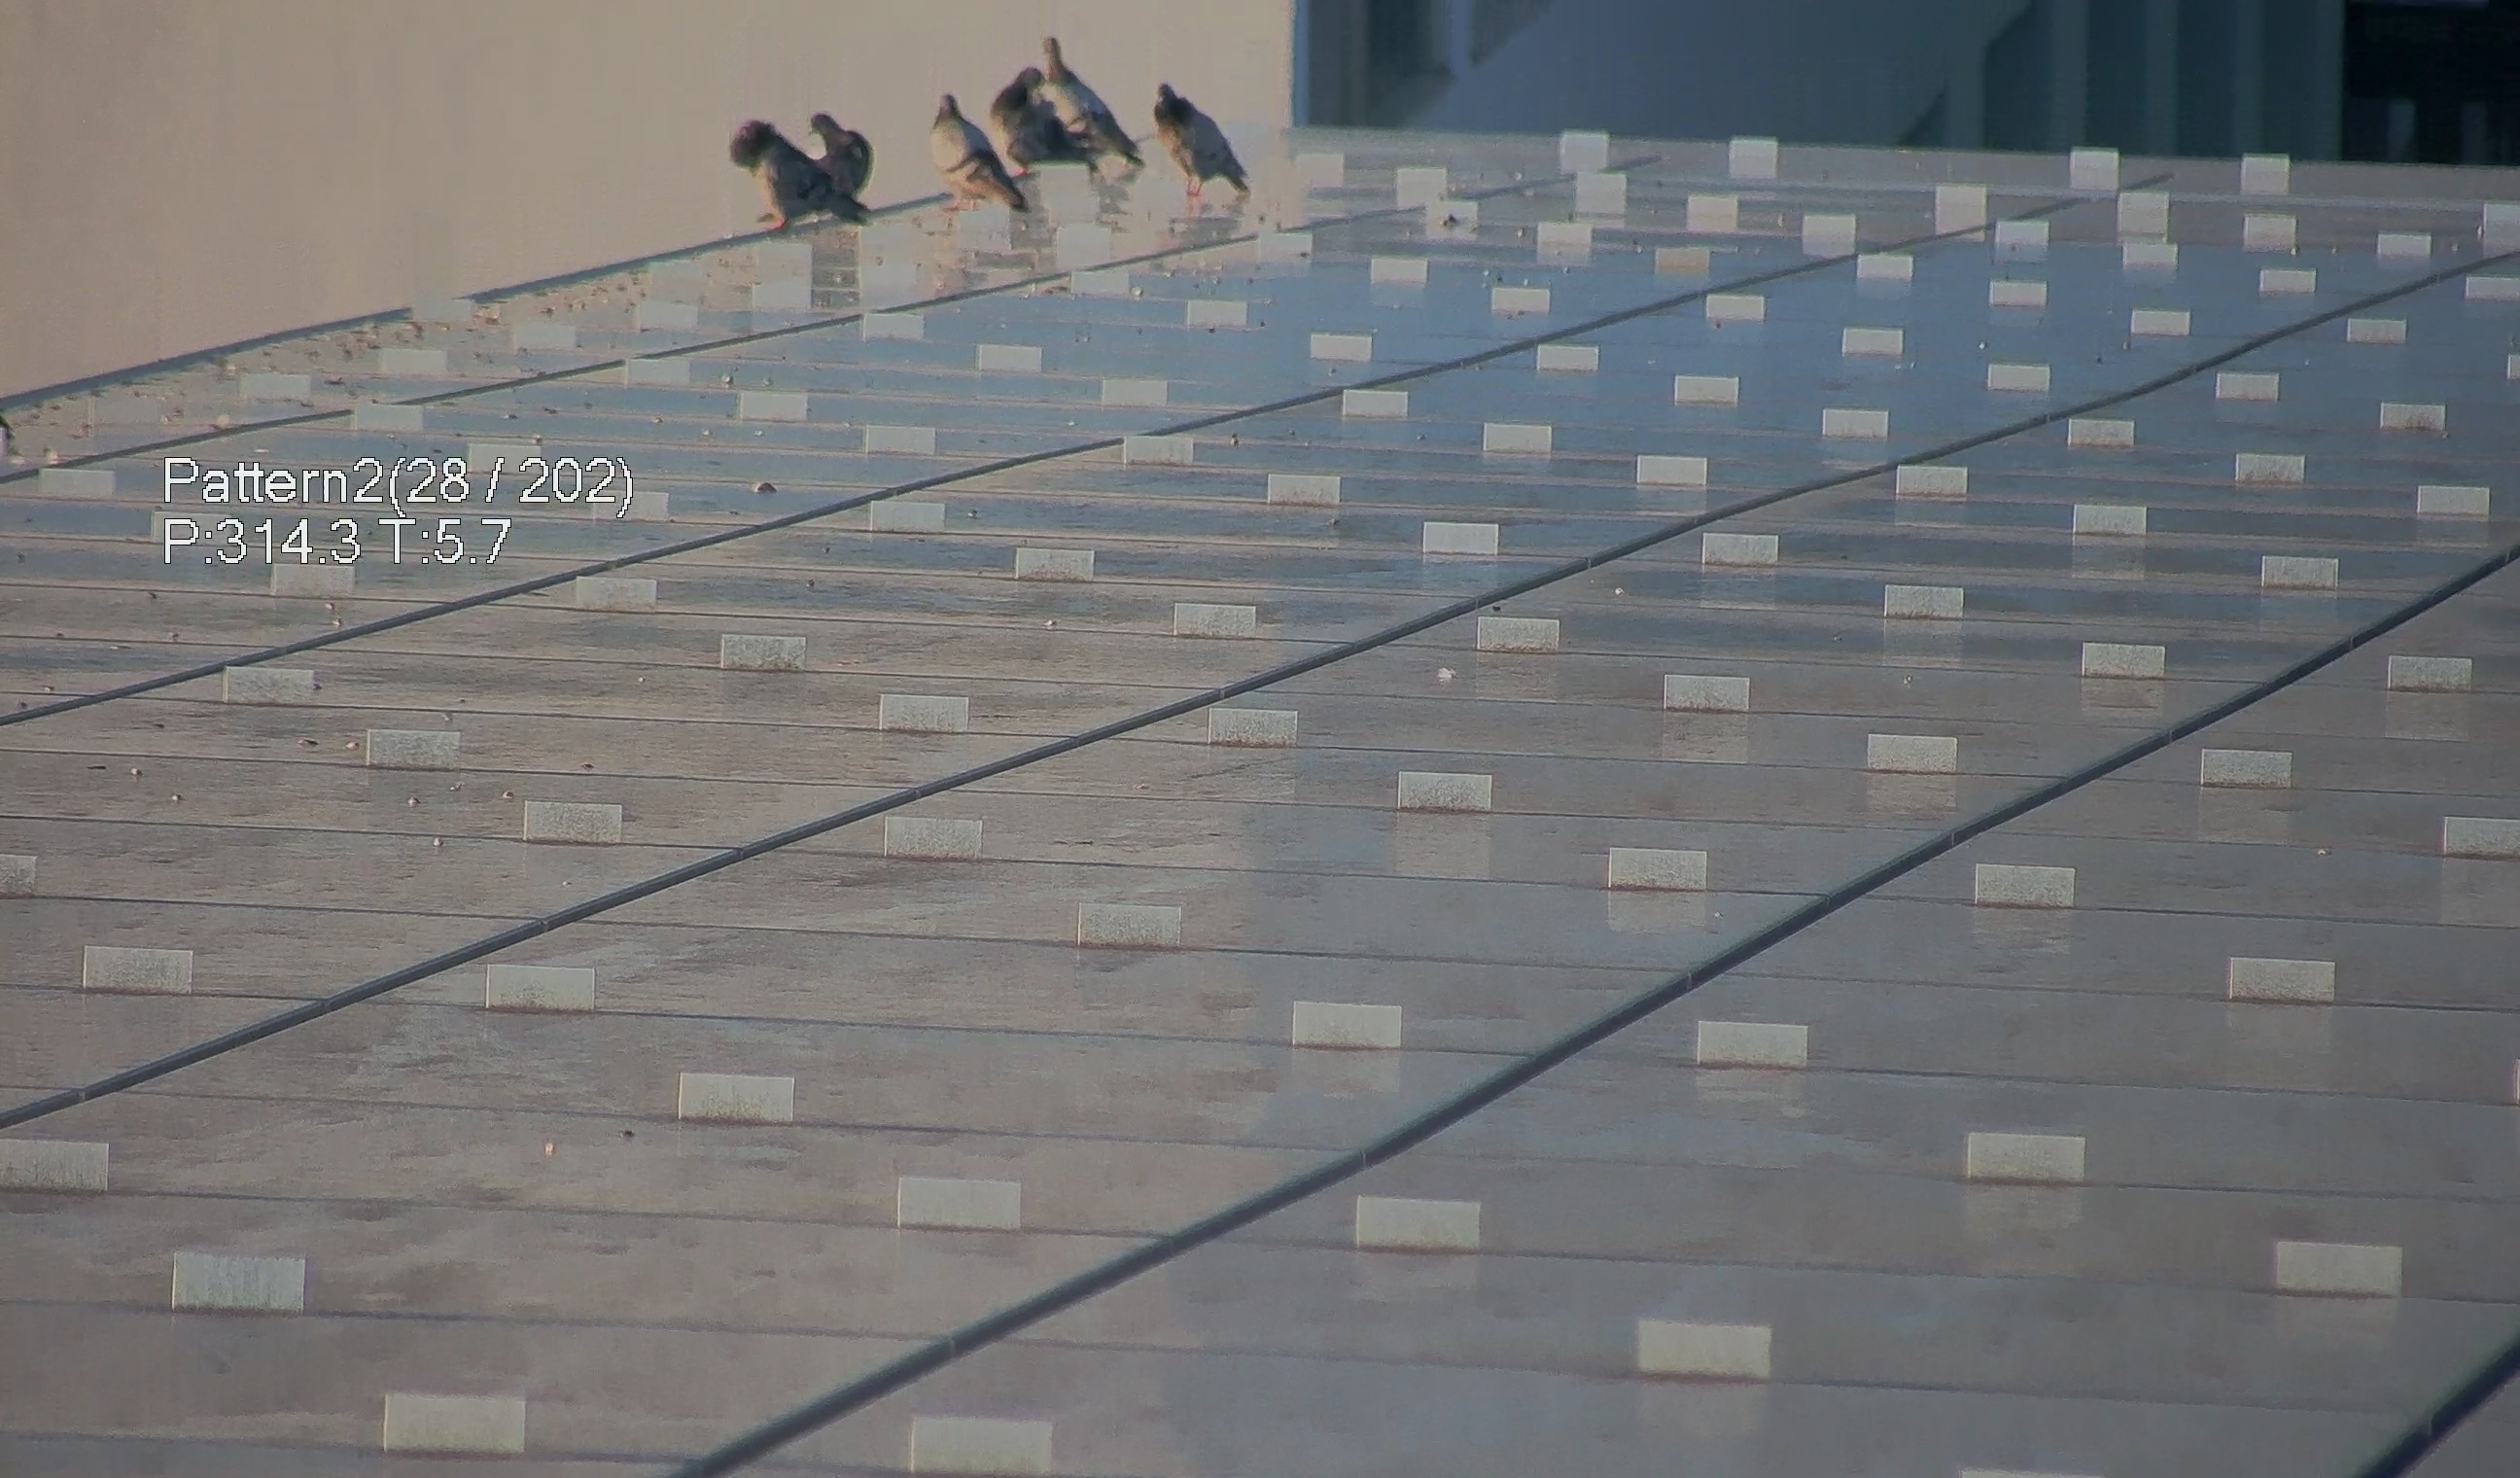Pigeon: (994, 25, 1134, 188), (719, 93, 869, 236), (907, 76, 1032, 209), (1136, 70, 1256, 199)
